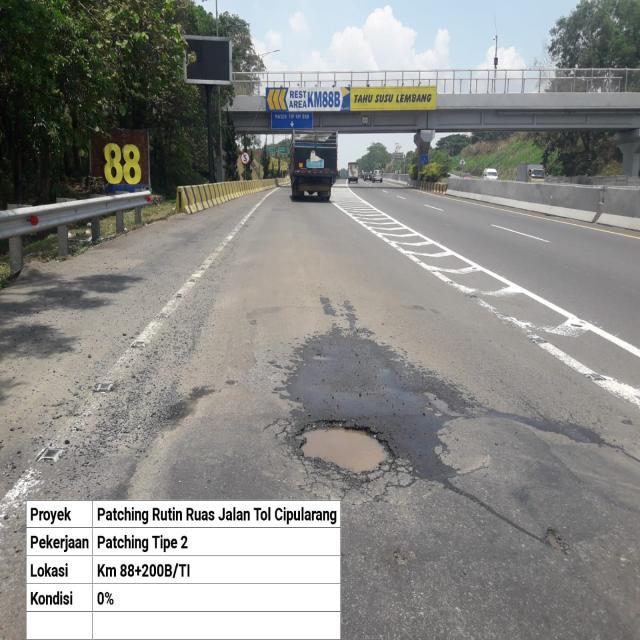Buraco: (290, 417, 401, 486), (541, 526, 576, 558)
